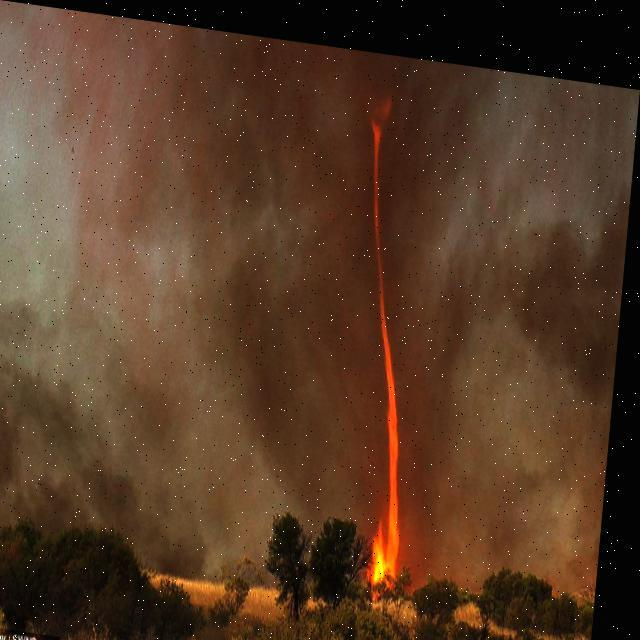Fire: (334, 93, 444, 579)
